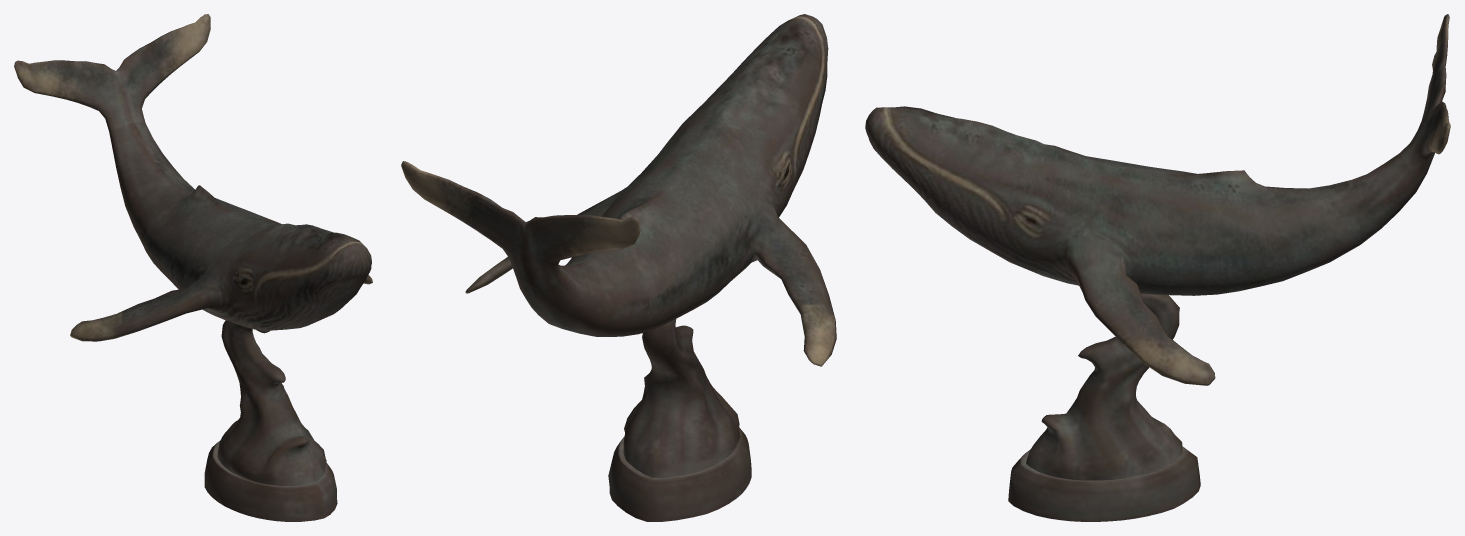
The model's file is bronze_whale_statue.glb.
3 views of the same model, side by side, from view 1: azimuth 30°, elevation 25°; view 2: azimuth 150°, elevation 25°; view 3: azimuth 270°, elevation 25° (orthographic). The views are drawn at different scales.
Visible parts, largest first — view 1: bronze_whale_statue; view 2: bronze_whale_statue; view 3: bronze_whale_statue.
Boxes of the visible parts, bbox=[...] form: bronze_whale_statue: bbox=[14, 14, 372, 521]; bronze_whale_statue: bbox=[401, 14, 836, 521]; bronze_whale_statue: bbox=[865, 14, 1450, 521].
Bounding box in the file's own units: 0.932 × 1.07 × 1.37.
1 material, 1 textured.
